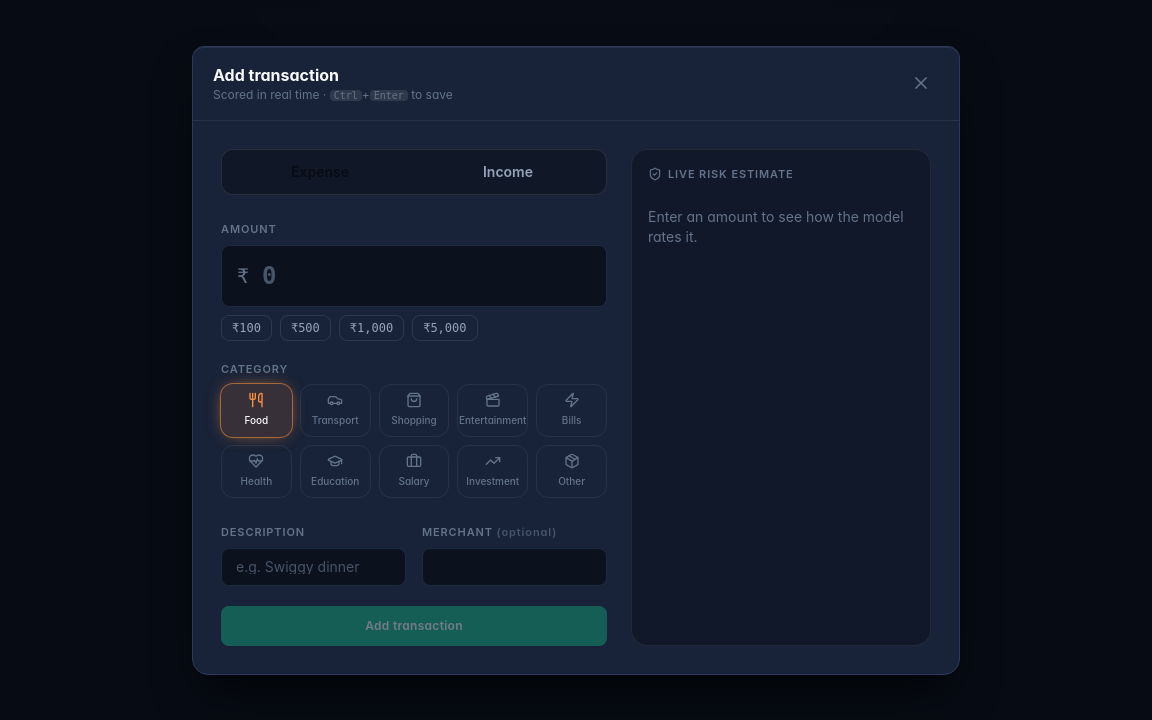
Test: AddTransactionPanel › asks the model for a read-only preview as you type, then shows the recorded verdict on submit
This screenshot has width=1152, height=720.
Check: the button "Add transaction" is disabled, box [221,605,607,645]
Type "8999" into the field labelled "Amount" at coordinates (414, 276), box [221,245,607,307]
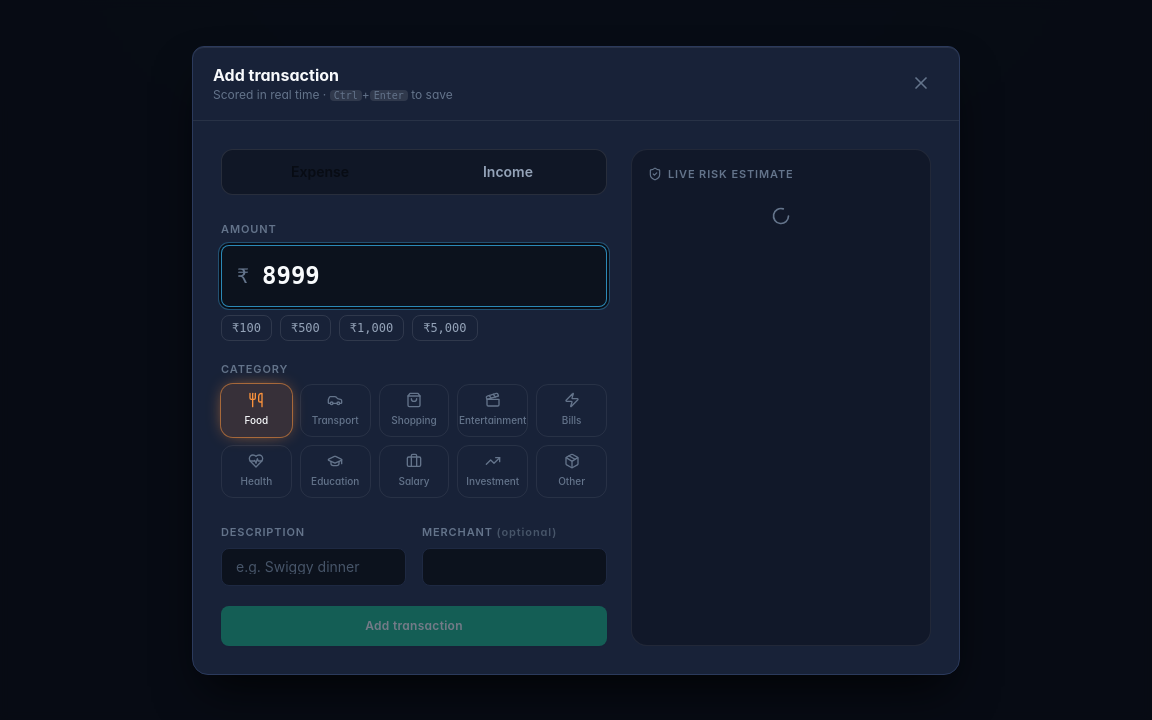
Type "Amazon order" into the field labelled "Description" at coordinates (314, 566), box [221,547,406,585]
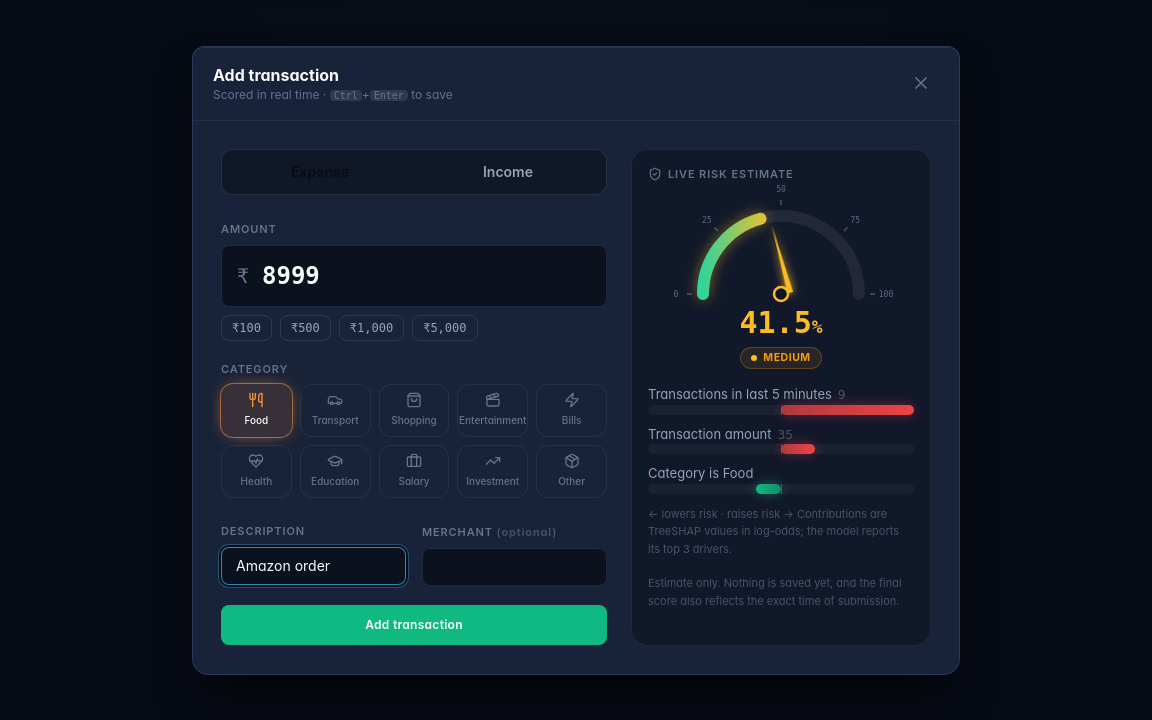
Check: the text "Estimate only" is shown, box [648,576,902,608]
Click the button "Add transaction" at coordinates (414, 625), box [221,605,607,645]
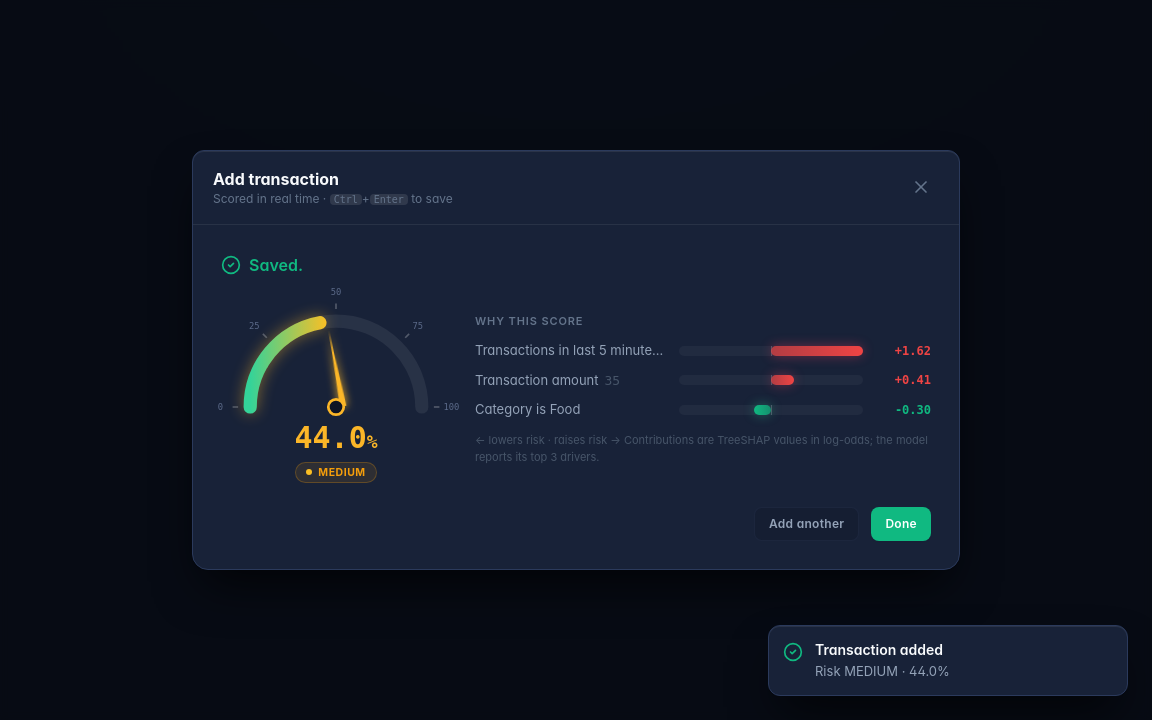
Check: the text "Saved." is shown, box [249,253,303,277]
